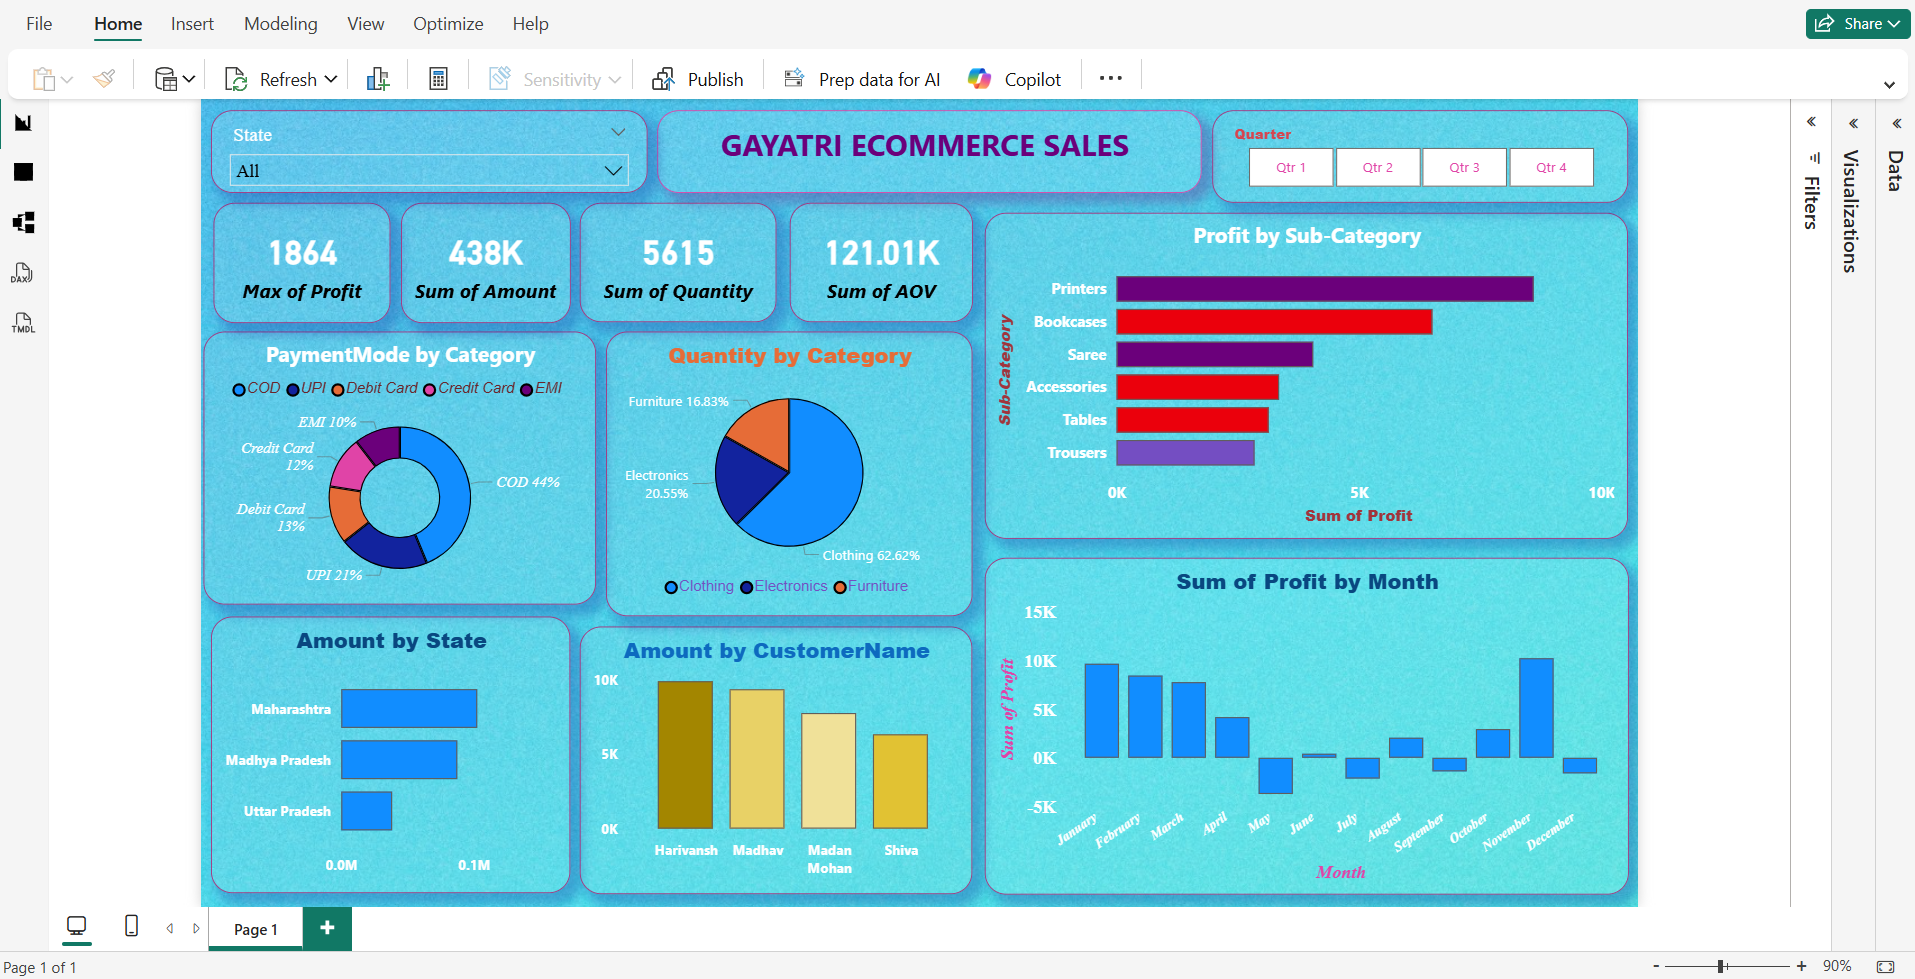

The dashboard page shown, as its layout file describes it:
{"tool":"powerbi","page":{"name":"Page 1","canvas":[1280,720],"ordinal":0},"visuals":[{"type":"textbox","box":[406.1,9.8,484.7,73.6],"z":0},{"type":"barChart","title":"Profit by Sub-Category","fields":{"Category":["Details.Sub-Category"],"Y":["Details.Profit"]},"box":[698.2,101.8,573,290.8],"z":1000},{"type":"donutChart","title":"PaymentMode by Category","fields":{"Category":["Details.PaymentMode"],"Y":["Details.Quantity"]},"box":[2.5,207.4,349.7,242.9],"z":2000},{"type":"card","fields":{"Values":["Details.Profit"]},"box":[11,91.9,157.8,107],"z":3000},{"type":"card","fields":{"Values":["Details.Amount"]},"box":[178.4,91.9,150.9,107],"z":4000},{"type":"card","fields":{"Values":["Details.Quantity"]},"box":[337.4,92,175.5,106.7],"z":5000},{"type":"card","fields":{"Values":["Details.AOV"]},"box":[523.9,92,163.2,106.7],"z":6000},{"type":"barChart","title":"Amount by State","fields":{"Category":["Orders - Orders.State"],"Y":["Details.Amount"]},"box":[8.6,461.4,320.2,246.6],"z":7000},{"type":"columnChart","title":"Amount by CustomerName","fields":{"Category":["Orders - Orders.CustomerName"],"Y":["Details.Amount"]},"box":[337.4,469.9,349.7,238],"z":8000},{"type":"pieChart","title":"Quantity by Category","fields":{"Y":["Details.Quantity"],"Category":["Details.Category"]},"box":[360.7,207.4,326.4,254],"z":9000},{"type":"slicer","fields":{"Values":["Orders - Orders.Order Date.Variation.Date Hierarchy.Quarter"]},"box":[900.6,9.8,370.6,82.2],"z":10000},{"type":"slicer","fields":{"Values":["Orders - Orders.State"]},"box":[8.6,9.8,389,73.6],"z":11000},{"type":"columnChart","fields":{"Category":["Orders - Orders.Order Date.Variation.Date Hierarchy.Month"],"Y":["Details.Profit"]},"box":[697.7,408.1,573.3,300],"z":12000}]}

Visuals, with their boxes on the page's 1280x720 design canvas (x1, y1, x2, y2). These are canvas units, not pixel positions in the 1915x979 screenshot, which may show the page scaled, cropped or inside an application window:
textbox: locate(406, 10, 891, 83)
"Profit by Sub-Category" barChart: locate(698, 102, 1271, 393)
"PaymentMode by Category" donutChart: locate(2, 207, 352, 450)
card - Details.Profit: locate(11, 92, 169, 199)
card - Details.Amount: locate(178, 92, 329, 199)
card - Details.Quantity: locate(337, 92, 513, 199)
card - Details.AOV: locate(524, 92, 687, 199)
"Amount by State" barChart: locate(9, 461, 329, 708)
"Amount by CustomerName" columnChart: locate(337, 470, 687, 708)
"Quantity by Category" pieChart: locate(361, 207, 687, 461)
slicer - Orders - Orders.Order Date.Variation.Date Hierarchy.Quarter: locate(901, 10, 1271, 92)
slicer - Orders - Orders.State: locate(9, 10, 398, 83)
columnChart - Orders - Orders.Order Date.Variation.Date Hierarchy.Month x Details.Profit: locate(698, 408, 1271, 708)
